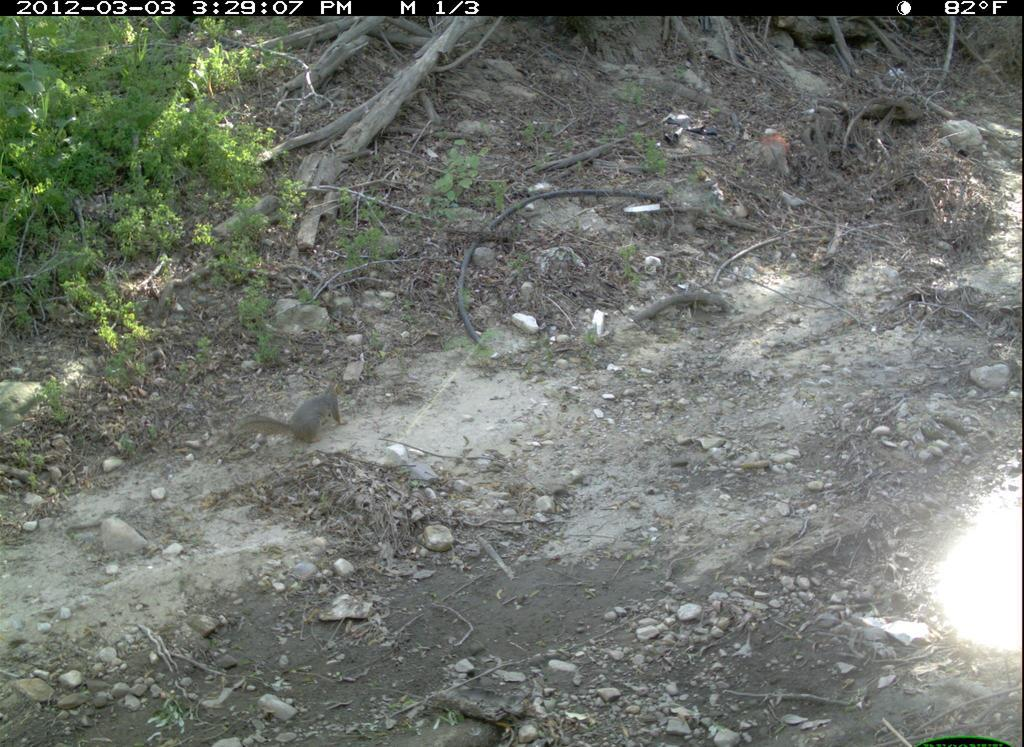squirrel: (220, 376, 387, 460)
